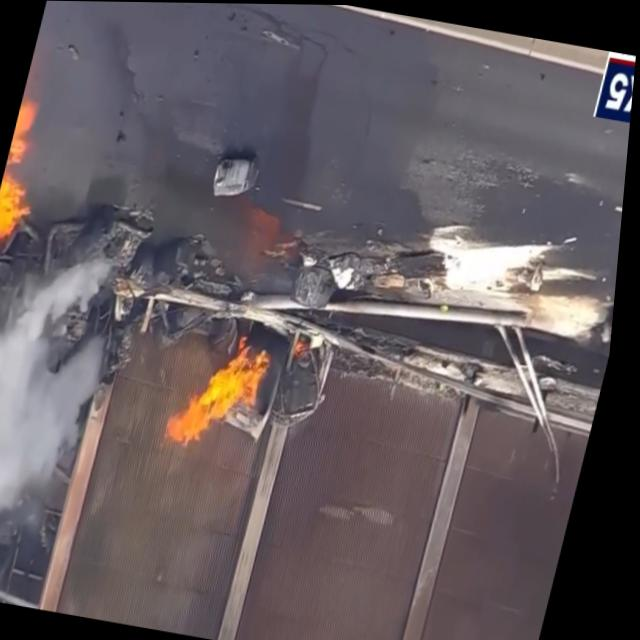Fire: (172, 328, 282, 456), (0, 102, 57, 276)
